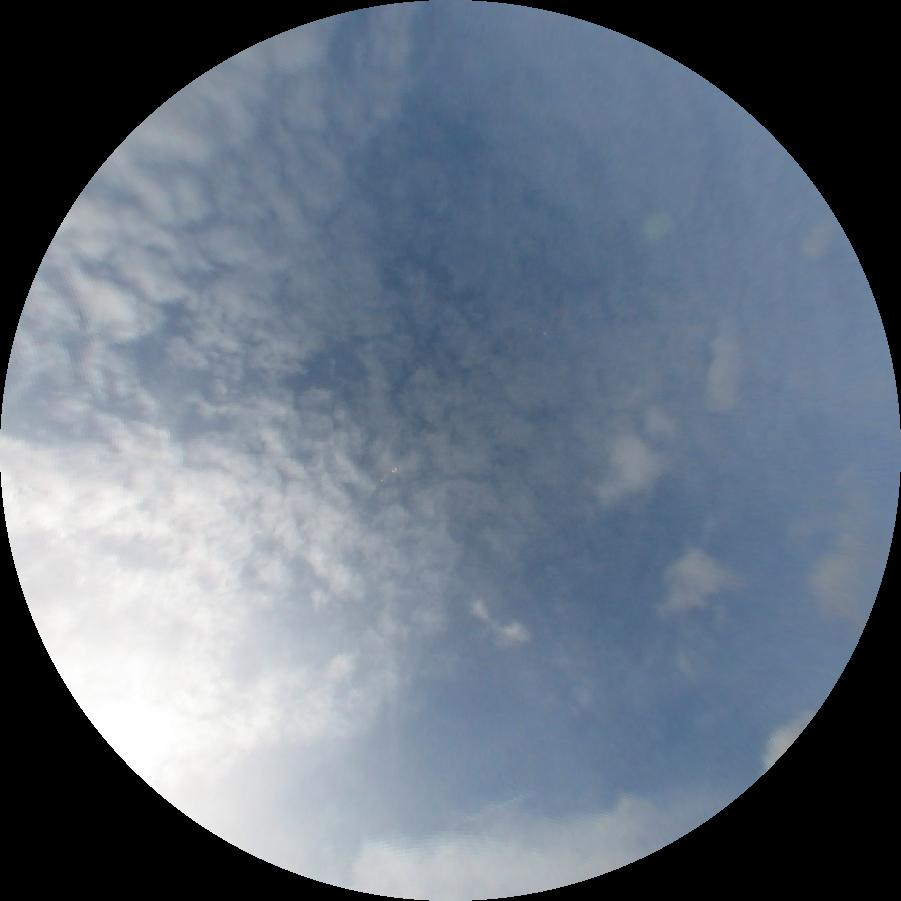contrail young: (425, 790, 537, 844)
